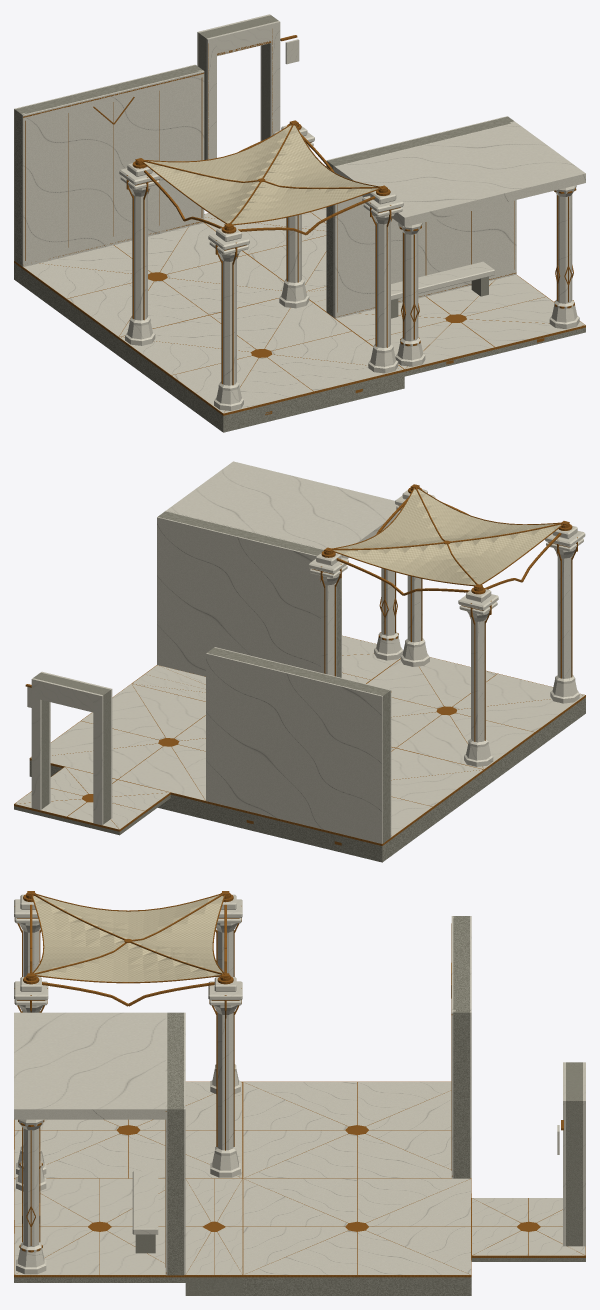
The model's file is assembly.glb.
3 renders of one model, top to bottom at view 1: azimuth 30°, elevation 25°; view 2: azimuth 150°, elevation 25°; view 3: azimuth 270°, elevation 25°, orthographic. The views are drawn at different scales.
Visible parts, largest first — view 1: Replaceable marble facing panel.003, Portico stone shade lintel, Replaceable marble facing panel, Shallow scalloped four-point tension textile, Stone floor substrate, Bearing masonry wall segment.001, Layered octagonal pier shaft and spreading neck.001, Layered octagonal pier shaft and spreading neck.002, Layered octagonal pier shaft and spreading neck, Marble pier stepped octagonal facing, Marble pier stepped octagonal facing.001, Bearing masonry wall segment (+38 smaller); view 2: Replaceable marble facing panel.002, Replaceable marble facing panel.001, Portico stone shade lintel, Shallow scalloped four-point tension textile, Stone floor substrate.001, Bearing masonry wall segment.001, Layered octagonal pier shaft and spreading neck, Layered octagonal pier shaft and spreading neck.001, Replaceable flush radial marble floor sector.018, Replaceable flush radial marble floor sector.022, Replaceable flush radial marble floor sector.005, Replaceable flush radial marble floor sector.007 (+36 smaller); view 3: Portico stone shade lintel, Shallow scalloped four-point tension textile, Bearing masonry wall segment, Bearing masonry wall segment.001, Stone floor substrate.002, Layered octagonal pier shaft and spreading neck.003, Replaceable flush radial marble floor sector.017, Marble pier stepped octagonal facing.001, Replaceable flush radial marble floor sector.016, Replaceable flush radial marble floor sector.013, Replaceable flush radial marble floor sector.014, Replaceable flush radial marble floor sector.023 (+55 smaller).
Boxes of the visible parts, box(x1,y1,x2,y2) form: Replaceable marble facing panel.003: box(22, 71, 204, 266); Portico stone shade lintel: box(335, 123, 585, 226); Replaceable marble facing panel: box(334, 122, 516, 318); Shallow scalloped four-point tension textile: box(144, 125, 378, 224); Stone floor substrate: box(118, 339, 404, 432); Bearing masonry wall segment.001: box(14, 65, 202, 266); Layered octagonal pier shaft and spreading neck.001: box(125, 186, 155, 345); Layered octagonal pier shaft and spreading neck.002: box(368, 213, 398, 373); Layered octagonal pier shaft and spreading neck: box(214, 251, 243, 410); Marble pier stepped octagonal facing: box(395, 208, 425, 366); Marble pier stepped octagonal facing.001: box(549, 170, 579, 329); Bearing masonry wall segment: box(327, 116, 513, 316); Replaceable marble facing panel.002: box(206, 653, 382, 843); Replaceable marble facing panel.001: box(157, 517, 320, 676); Portico stone shade lintel: box(166, 461, 399, 558); Shallow scalloped four-point tension textile: box(333, 488, 560, 585); Stone floor substrate.001: box(206, 772, 484, 862); Bearing masonry wall segment.001: box(207, 647, 390, 843); Layered octagonal pier shaft and spreading neck: box(550, 548, 579, 703); Layered octagonal pier shaft and spreading neck.001: box(464, 611, 493, 766); Replaceable flush radial marble floor sector.018: box(118, 746, 205, 800); Replaceable flush radial marble floor sector.022: box(132, 684, 205, 738); Replaceable flush radial marble floor sector.005: box(397, 715, 483, 769); Replaceable flush radial marble floor sector.007: box(456, 695, 584, 731); Portico stone shade lintel: box(14, 1012, 165, 1119); Shallow scalloped four-point tension textile: box(33, 895, 223, 981); Bearing masonry wall segment: box(167, 1012, 183, 1275); Bearing masonry wall segment.001: box(453, 916, 469, 1178); Stone floor substrate.002: box(242, 1277, 471, 1295); Layered octagonal pier shaft and spreading neck.003: box(210, 1005, 240, 1177); Replaceable flush radial marble floor sector.017: box(357, 1178, 470, 1222); Marble pier stepped octagonal facing.001: box(16, 1101, 46, 1274); Replaceable flush radial marble floor sector.016: box(244, 1178, 356, 1222); Replaceable flush radial marble floor sector.013: box(244, 1134, 356, 1178); Replaceable flush radial marble floor sector.014: box(243, 1130, 347, 1177); Replaceable flush radial marble floor sector.023: box(243, 1179, 347, 1226).
Bounding box in the file's own units: 8 × 4.2 × 10.
Materials: 26 (26 with a texture image).
